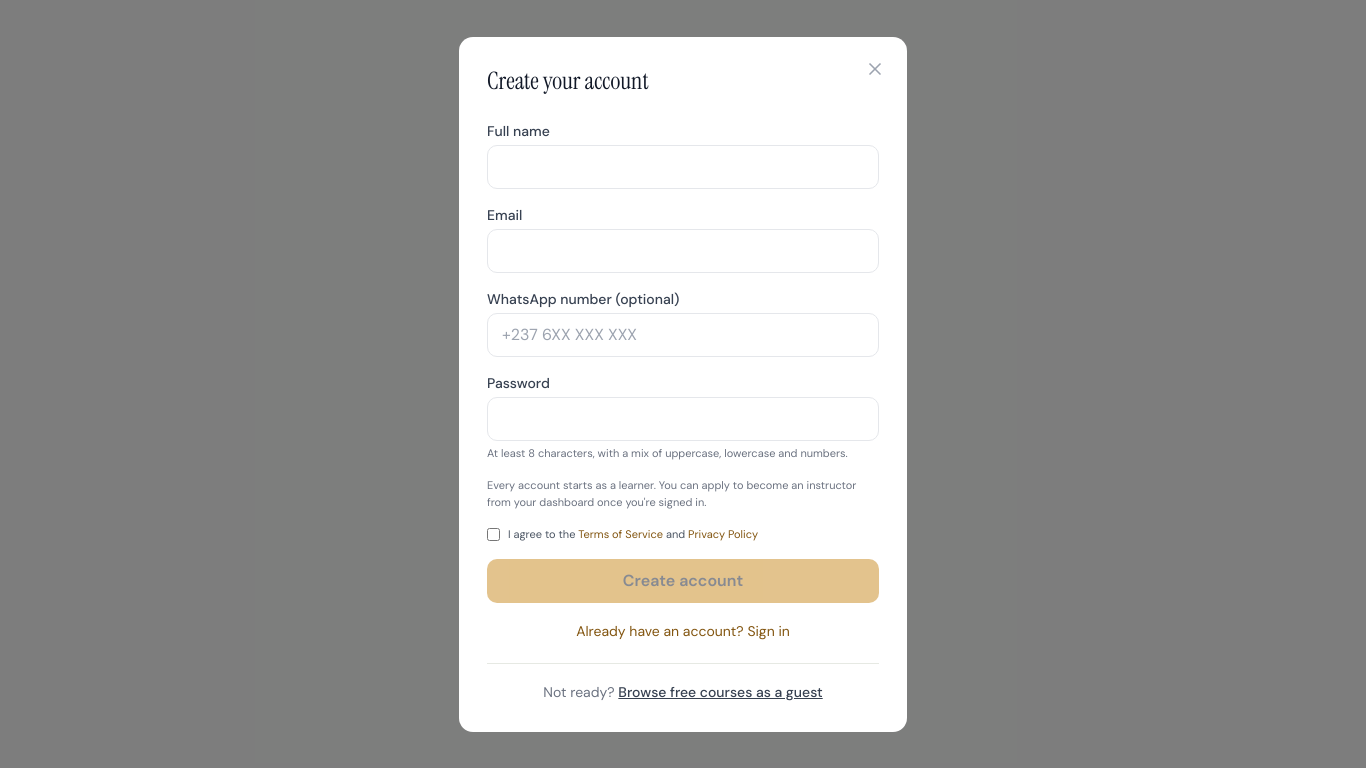
Test case: AuthModal signup consent › disables account creation until the terms checkbox is checked
Check: the button "Create account" is disabled, box [487, 558, 879, 602]
What coordinates should you click on to do the following:
click the checkbox
I would click on:
 (494, 534)
Its box is [487, 528, 500, 541].
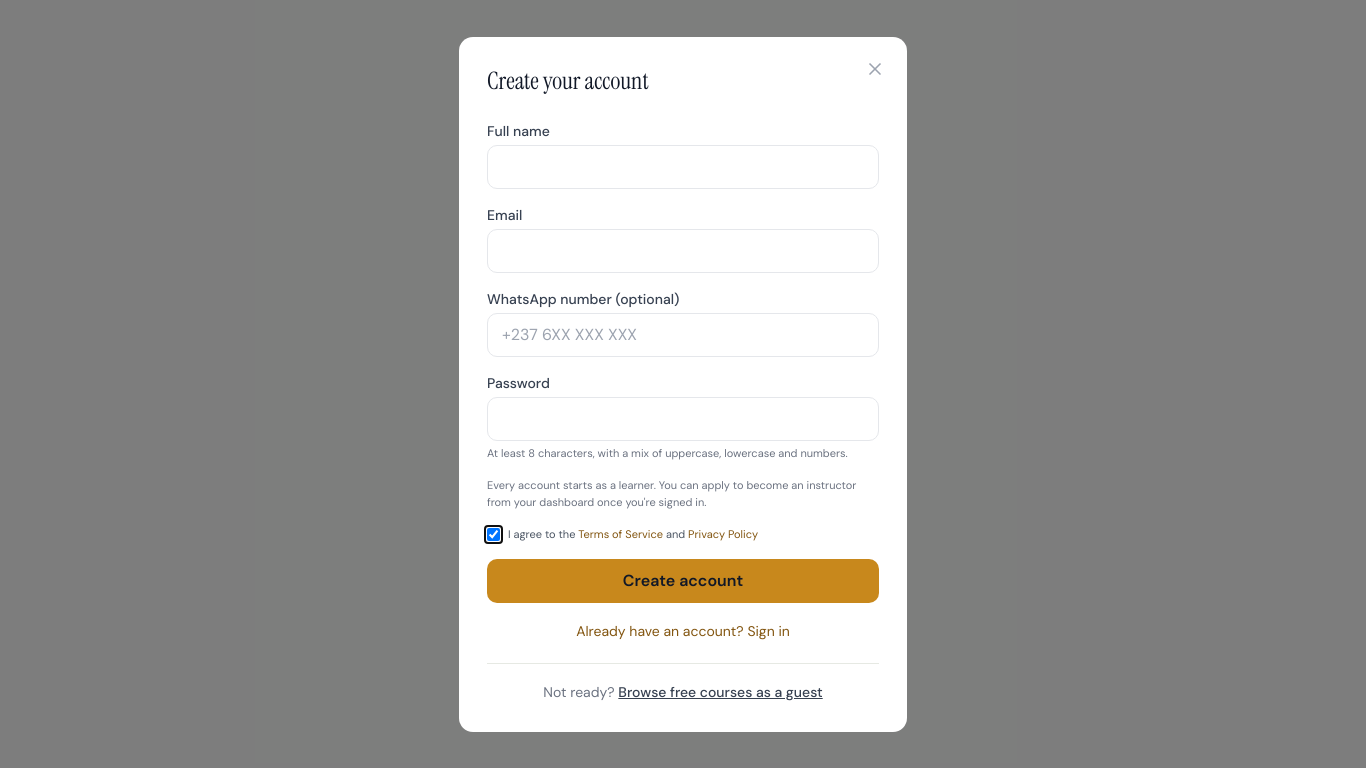
Check: the button "Create account" is enabled, box [487, 558, 879, 602]
